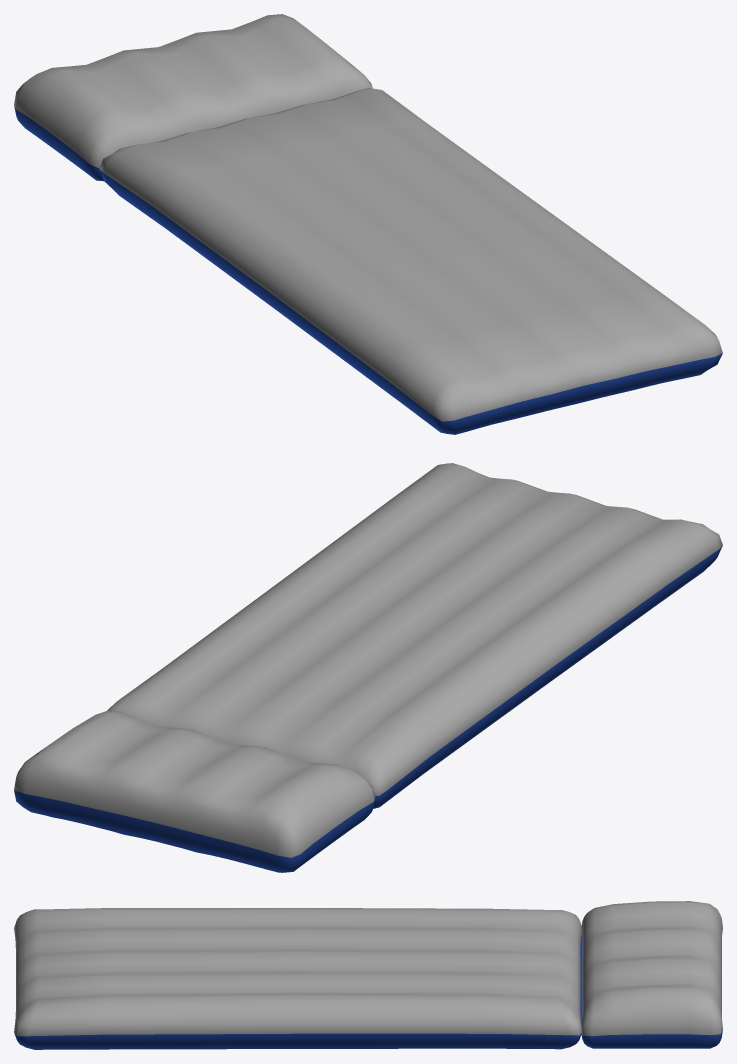
Rendered from air-mattress.obj.
3 views of the same model, one above another, from view 1: azimuth 30°, elevation 25°; view 2: azimuth 150°, elevation 25°; view 3: azimuth 270°, elevation 25° (orthographic). The views are drawn at different scales.
Parts seen in each view (by area): view 1: Cube.001; view 2: Cube.001; view 3: Cube.001.
Part boxes in pixels (left/top/right/bottom): Cube.001: left=14, top=14, right=722, bottom=434; Cube.001: left=14, top=463, right=722, bottom=872; Cube.001: left=14, top=901, right=722, bottom=1049.
Bounding box in the file's own units: 69.36 × 15.8 × 182.
